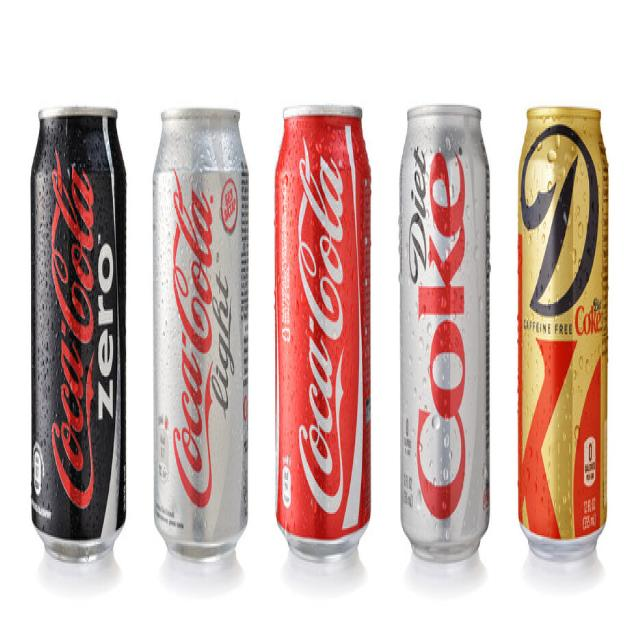cocacola: (272, 109, 374, 572)
